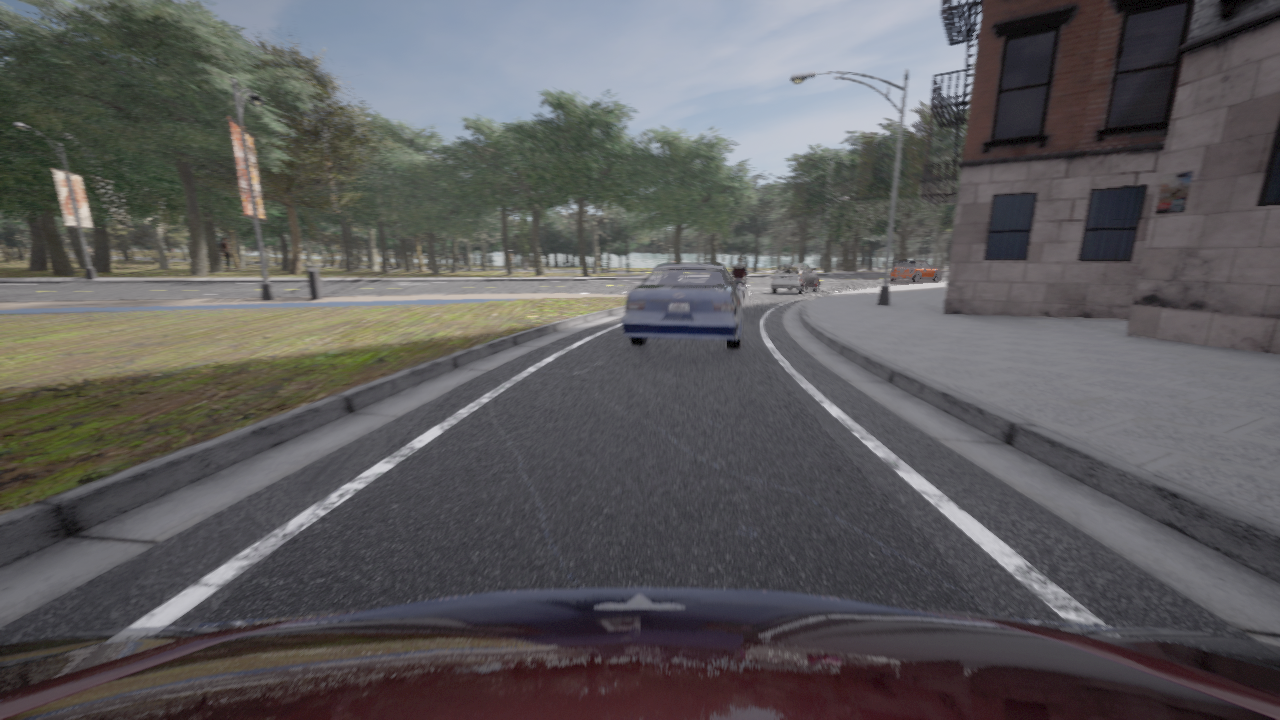cyclist: (0, 588, 1279, 719), (621, 262, 746, 348), (770, 264, 819, 294), (890, 261, 941, 282), (737, 285, 744, 301)
pedestrian: (220, 237, 234, 269)
